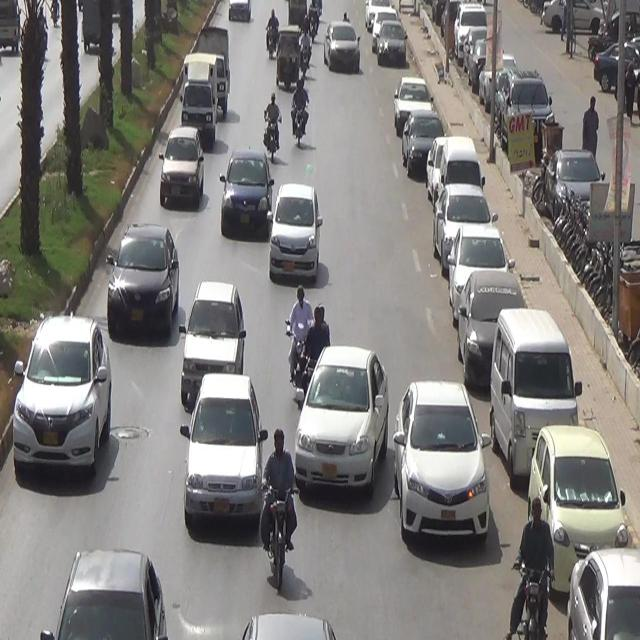car: (395, 385, 497, 560), (10, 321, 112, 472), (294, 347, 385, 492), (181, 378, 265, 529), (99, 227, 185, 352), (177, 284, 242, 396), (272, 186, 326, 290), (216, 151, 273, 246), (155, 128, 208, 218), (319, 24, 362, 78)
motorbike: (513, 498, 563, 640), (269, 430, 295, 585), (299, 300, 335, 389), (259, 95, 279, 163), (292, 87, 309, 154), (292, 291, 309, 352), (262, 10, 279, 52)
truck: (178, 45, 224, 127)
